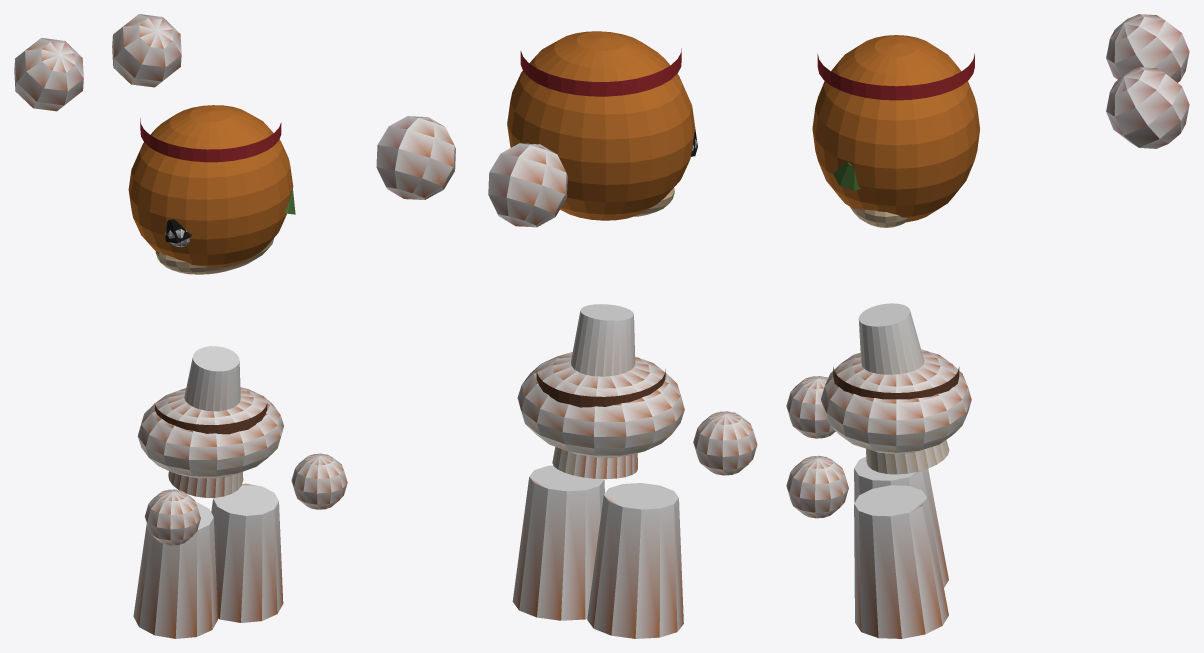
3 views of the same model, side by side, from view 1: azimuth 30°, elevation 25°; view 2: azimuth 150°, elevation 25°; view 3: azimuth 270°, elevation 25° (orthographic). The views are drawn at different scales.
Size of the model in its own units: 0.4795 by 1.18 by 0.7695.
